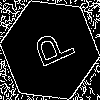P: (25, 25, 76, 74)
